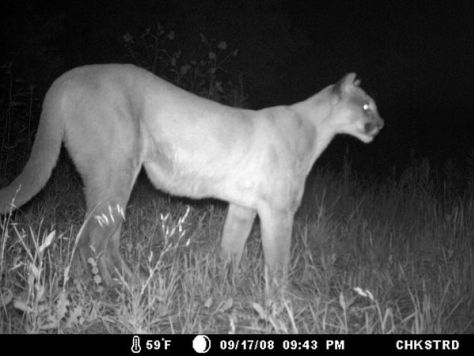mountain lion: (1, 59, 395, 289)
